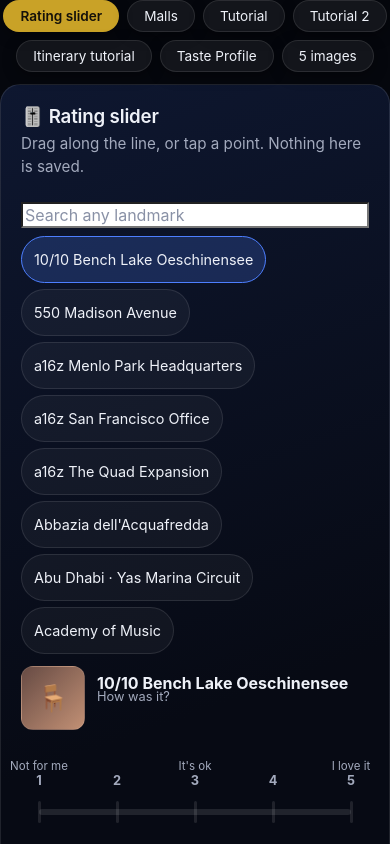
Test: OnboardingLab › says there is nothing to test while the sandbox is switched off
The width and height of the screenshot is (390, 844).
What coordinates should you click on to do the following:
click the tab "Tutorial"
I would click on:
 (244, 16)
Its box is [203,0,285,32].
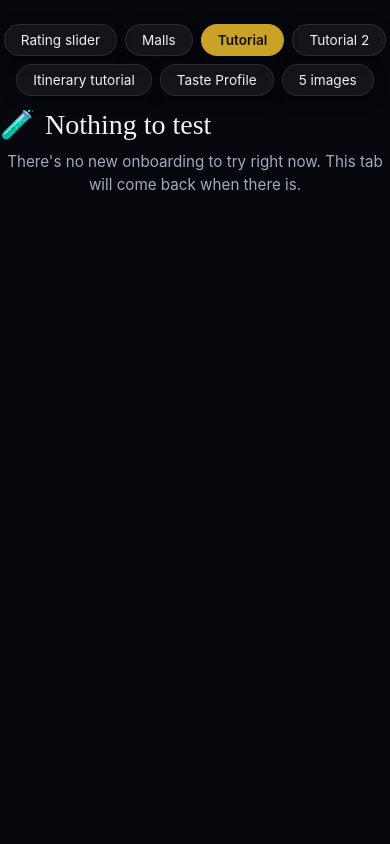
Result: the text "Nothing to test" is shown at [45,108,211,140]
